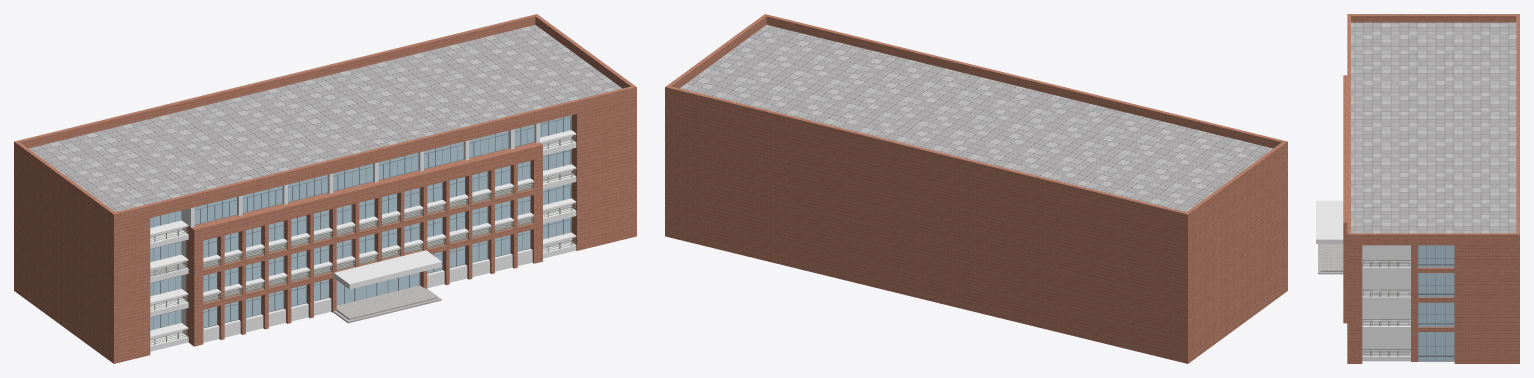
File: laboratoryBuild.glb
3 views of the same model, side by side, from view 1: azimuth 30°, elevation 25°; view 2: azimuth 150°, elevation 25°; view 3: azimuth 270°, elevation 25° (orthographic). The views are drawn at different scales.
Parts seen in each view (by area): view 1: 办公楼175; view 2: 办公楼175; view 3: 办公楼175.
Part boxes in pixels (bbox=[...]): 办公楼175: bbox=[14, 14, 636, 363]; 办公楼175: bbox=[665, 14, 1287, 363]; 办公楼175: bbox=[1316, 14, 1519, 363].
Bounding box in the file's own units: 57.68 × 15.75 × 22.53.
Materials: 7 (3 with a texture image).
